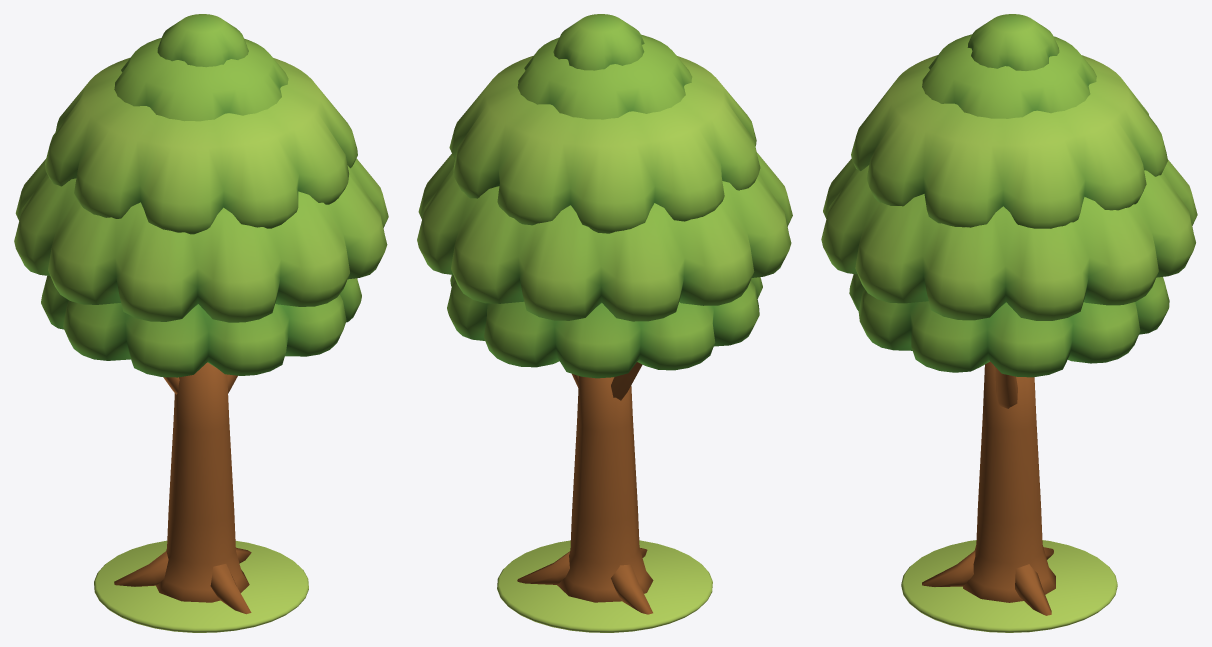
Rendered from round-tree-medium.glb.
3 renders of one model, left to right at view 1: azimuth 30°, elevation 25°; view 2: azimuth 150°, elevation 25°; view 3: azimuth 270°, elevation 25°, orthographic.
Parts seen in each view (by area): view 1: body, base_disc; view 2: body, base_disc; view 3: body, base_disc.
Part boxes in pixels (box(x1,y1,x2,y2)): body: box(14, 14, 388, 614); base_disc: box(94, 540, 308, 632); body: box(417, 14, 792, 614); base_disc: box(497, 540, 712, 632); body: box(821, 14, 1197, 615); base_disc: box(901, 540, 1117, 632).
Bounding box in the file's own units: 2.61 × 4.38 × 2.61.
